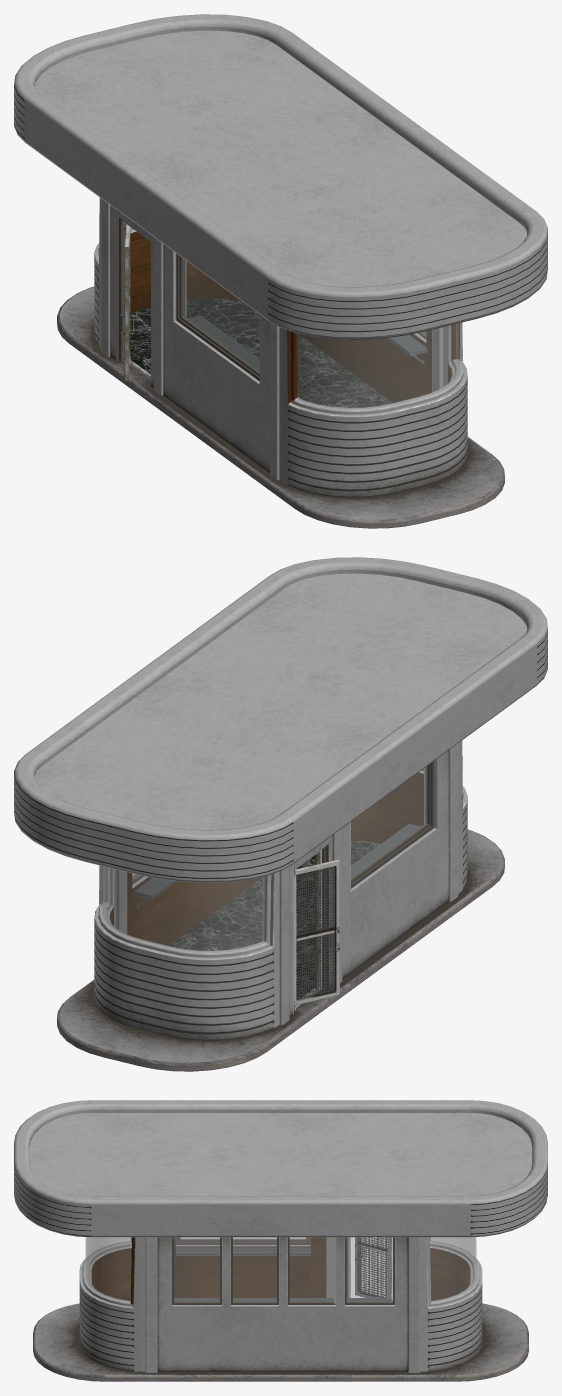
File: security_room__parking_19_mb.glb
The picture shows the model from 3 angles, top to bottom: view 1: azimuth 30°, elevation 25°; view 2: azimuth 150°, elevation 25°; view 3: azimuth 270°, elevation 25°; orthographic projection. The views are drawn at different scales.
Parts seen in each view (by area): view 1: Base, _1_3__0_Door_0; view 2: Base, _1_3__0_Door_0; view 3: Base, _1_3__0_Door_0.
Boxes of the visible parts, box(x1,y1,x2,y2) form: Base: box(14, 14, 547, 528); _1_3__0_Door_0: box(120, 224, 133, 381); Base: box(14, 557, 547, 1071); _1_3__0_Door_0: box(294, 860, 340, 1007); Base: box(14, 1100, 547, 1381); _1_3__0_Door_0: box(354, 1237, 392, 1300).
Size of the model in its own units: 4.64 by 4.1 by 10.24.
Materials: 4 (3 with a texture image).
